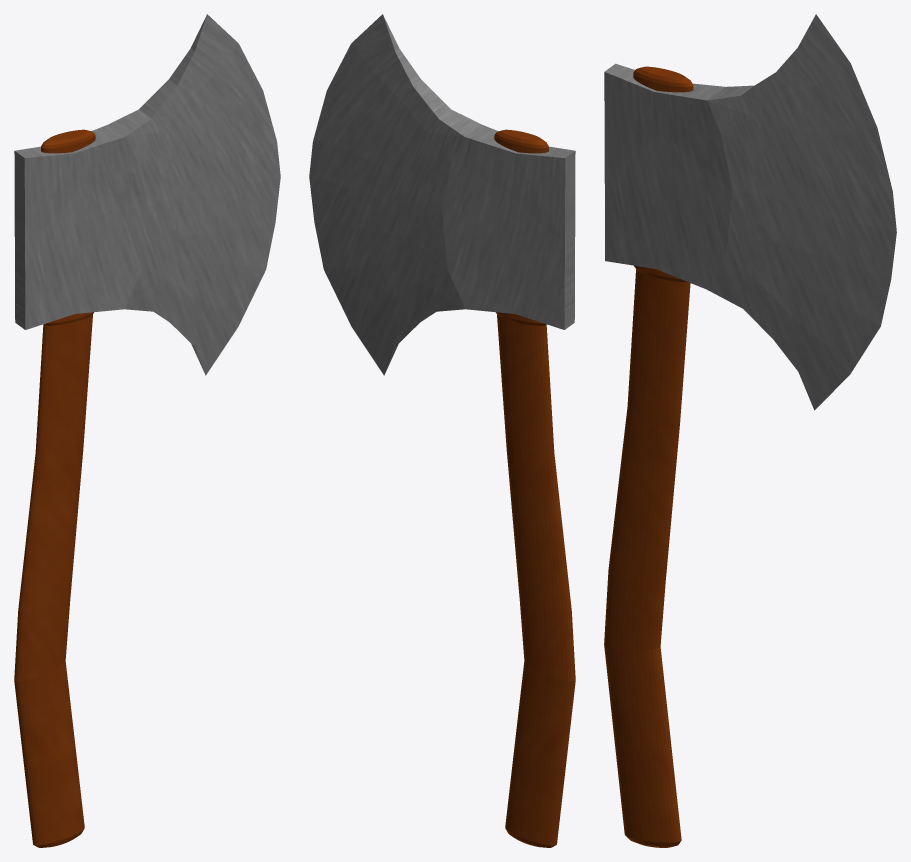
File: WoodAxe.obj
3 views of the same model, side by side, from view 1: azimuth 30°, elevation 25°; view 2: azimuth 150°, elevation 25°; view 3: azimuth 330°, elevation 25° (orthographic). The views are drawn at different scales.
Bounding box in the file's own units: 2.36 × 6.73 × 0.2611.
1 material, 1 textured.
